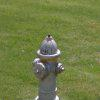Hydrant: (27, 25, 70, 100)
